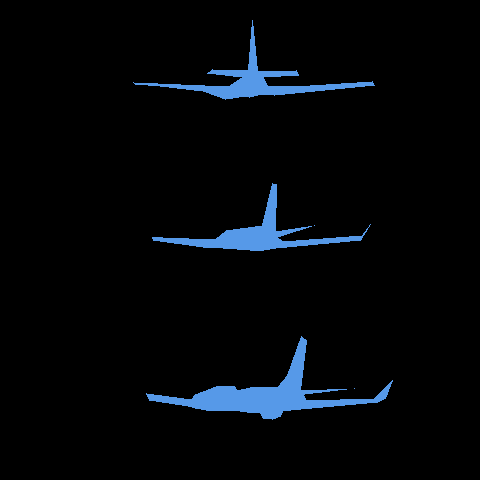Airplane: (146, 336, 393, 420), (133, 20, 374, 99), (152, 183, 370, 250)
